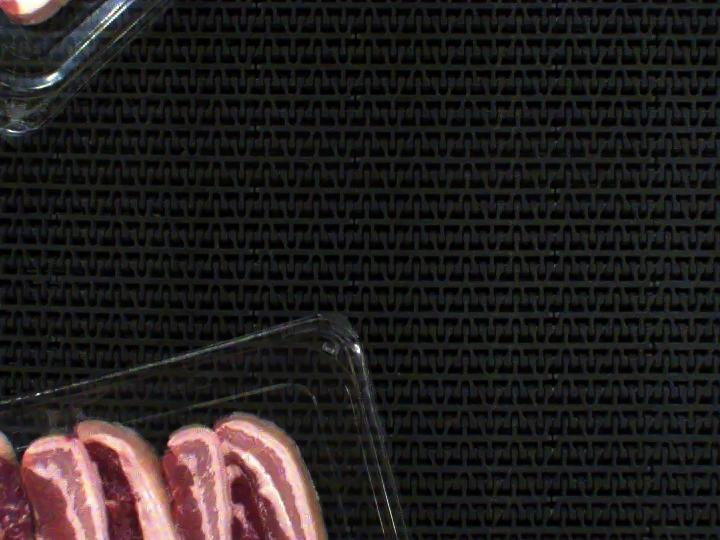packaging-error: (38, 408, 88, 437)
